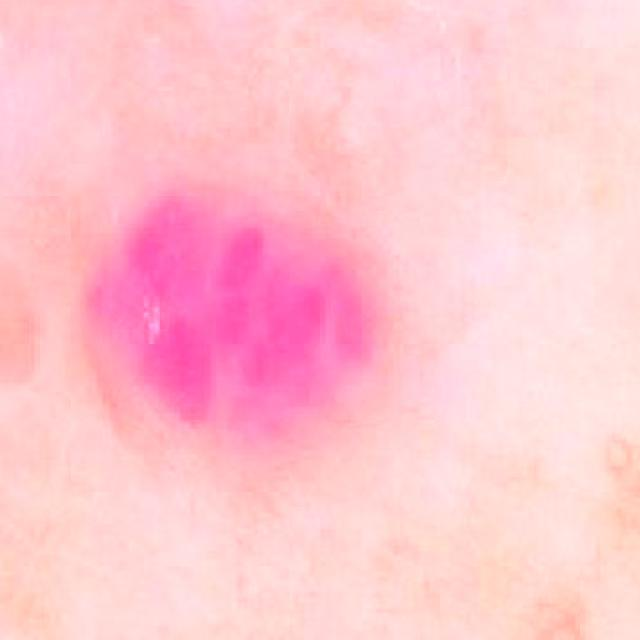VASC: (84, 89, 411, 548)
